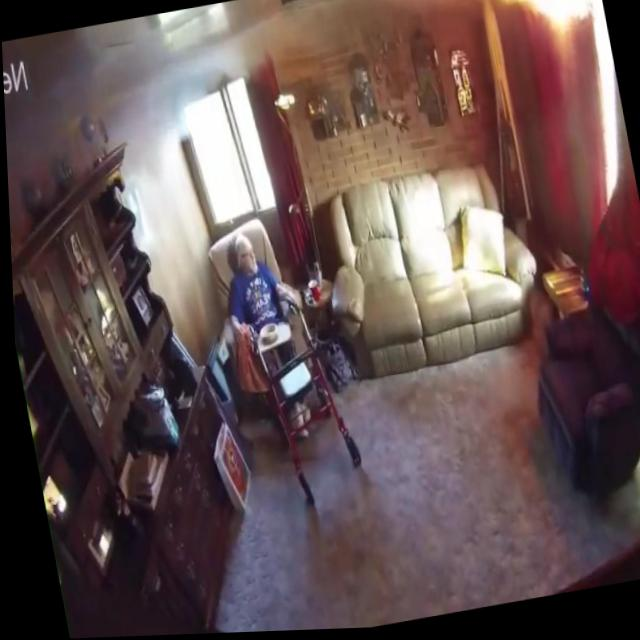fire: (481, 0, 604, 44)
